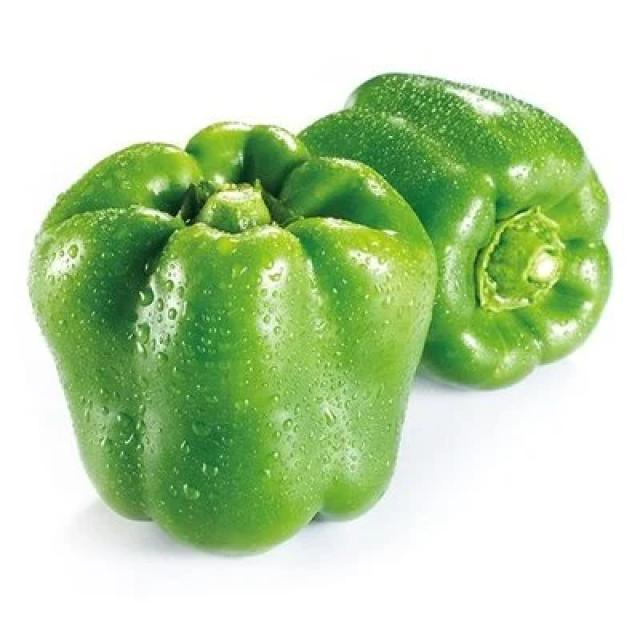Capsicum: (31, 120, 438, 556), (300, 70, 610, 388)
